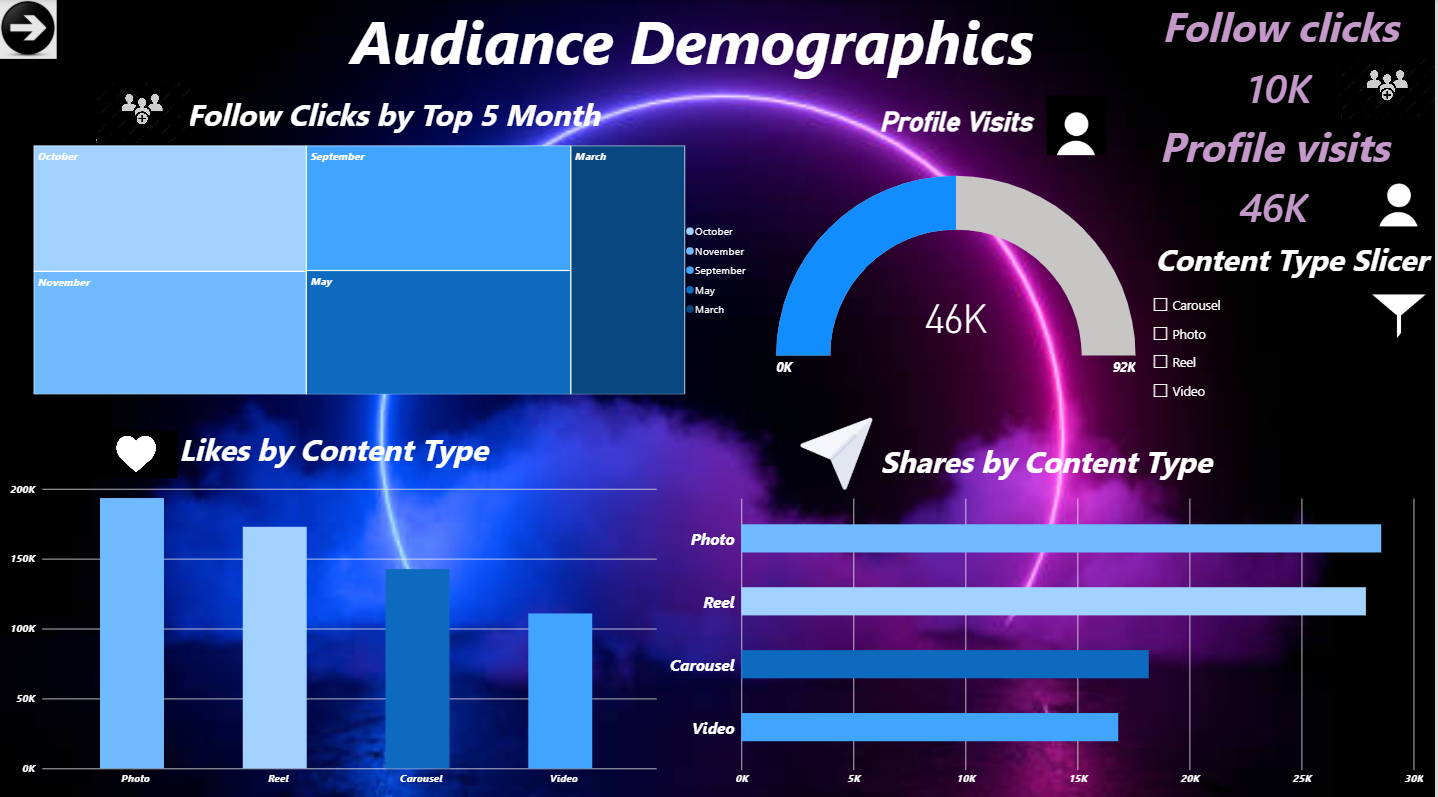

This screenshot's page, from the dashboard's own definition file:
{"tool":"powerbi","page":{"name":"Audiance Demographics","canvas":[1920,1080],"ordinal":2},"visuals":[{"type":"cardVisual","title":"Profile visits","fields":{"Data":["Sum(Sheet1.Profile_Visits)"]},"box":[1504,160,400,144],"z":0},{"type":"cardVisual","title":"Follow clicks","fields":{"Data":["Sum(Sheet1.Follow_Clicks)"]},"box":[1504,0,416,144],"z":1000},{"type":"columnChart","title":" Likes by Content Type","fields":{"Y":["Sum(Sheet1.Likes)"],"Category":["Sheet1.Content_Type"]},"box":[0,560,896,512],"z":2000},{"type":"treemap","title":" Follow Clicks by Top 5 Month","fields":{"Group":["Sheet1.Post Date.Variation.Date Hierarchy.Month"],"Values":["Sum(Sheet1.Follow_Clicks)"]},"box":[32,112,992,432],"z":3000},{"type":"slicer","title":"Content Type Slicer","fields":{"Values":["Sheet1.Content_Type"]},"box":[1536,320,384,256],"z":4000},{"type":"clusteredBarChart","title":"Shares by Content Type","fields":{"Category":["Sheet1.Content_Type"],"Y":["Sum(Sheet1.Shares)"]},"box":[880,576,1040,496],"z":5000},{"type":"gauge","title":"Profile Visits","fields":{"Y":["Sum(Sheet1.Profile_Visits)"]},"box":[1024,128,512,432],"z":6000},{"type":"textbox","box":[416,0,1024,144],"z":7000},{"type":"image","box":[1792,80,128,80],"z":8000},{"type":"image","box":[1824,224,96,80],"z":9000},{"type":"image","box":[1392,128,96,80],"z":10000},{"type":"image","box":[128,576,112,64],"z":11000},{"type":"image","box":[1072,560,96,96],"z":12000},{"type":"image","box":[128,112,128,80],"z":13000},{"type":"image","box":[0,0,80,80],"z":14000},{"type":"image","box":[1824,384,96,80],"z":15000}]}

Visuals, with their boxes in screenshot pixels (x1, y1, x2, y2), scaled from the page's 1920x1080 canvas onto the 1438x797 screenshot:
"Profile visits" cardVisual: 1126/118/1426/224
"Follow clicks" cardVisual: 1126/0/1437/106
" Likes by Content Type" columnChart: 0/413/671/791
" Follow Clicks by Top 5 Month" treemap: 24/83/767/401
"Content Type Slicer" slicer: 1150/236/1437/425
"Shares by Content Type" clusteredBarChart: 659/425/1437/791
"Profile Visits" gauge: 767/94/1150/413
textbox: 312/0/1078/106
image: 1342/59/1437/118
image: 1366/165/1437/224
image: 1043/94/1114/153
image: 96/425/180/472
image: 803/413/875/484
image: 96/83/192/142
image: 0/0/60/59
image: 1366/283/1437/342
